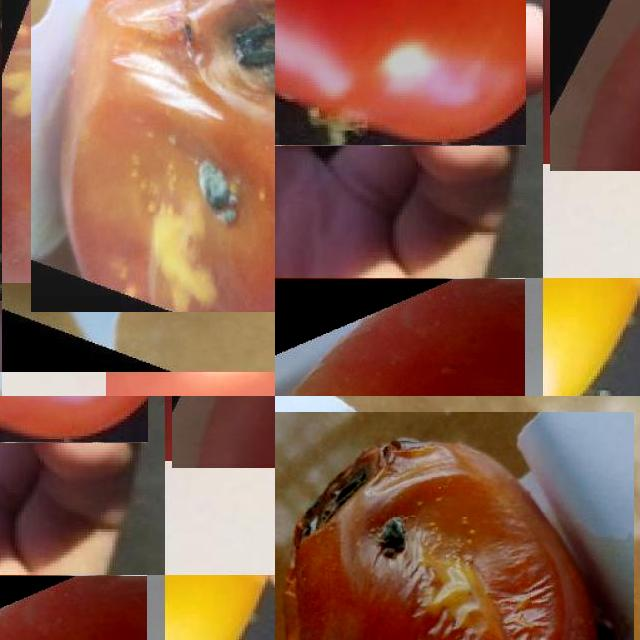1: (275, 412, 634, 640)
Fresh Tomato: (275, 0, 526, 145), (546, 0, 640, 167)
Rotten Tomato: (16, 0, 275, 297), (275, 278, 525, 396)
